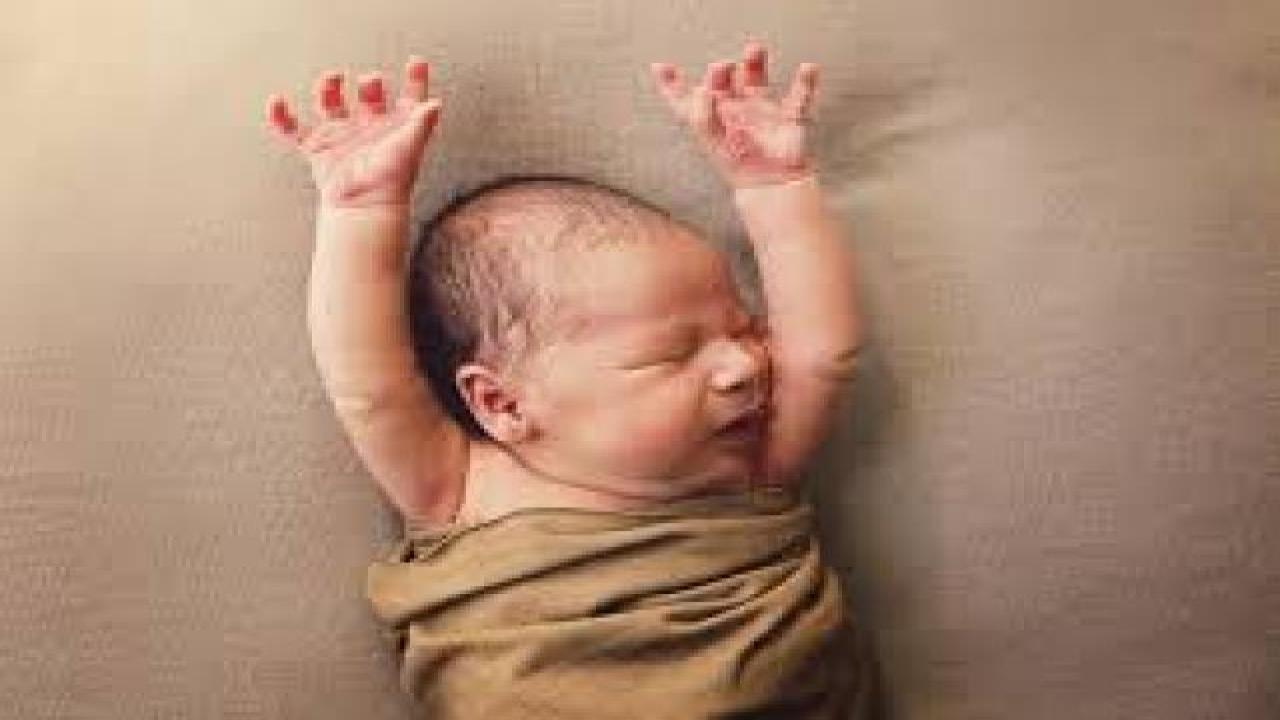hand: (253, 56, 451, 207), (644, 44, 834, 171)
